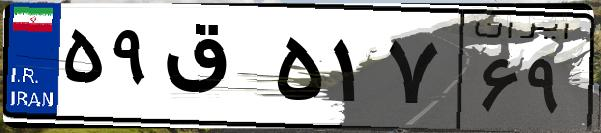1: (330, 28, 385, 110)
5: (270, 28, 330, 110), (57, 26, 110, 100)
6: (475, 38, 525, 113)
7: (385, 28, 445, 110)
9: (525, 38, 570, 115), (110, 28, 158, 98)
ق: (158, 20, 270, 120)
